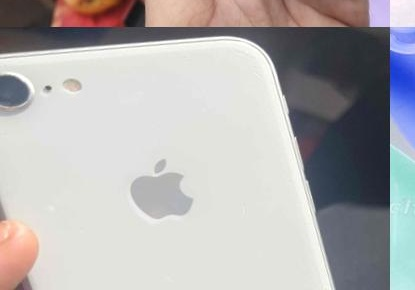scratch: (33, 177, 82, 221), (0, 68, 34, 116)
